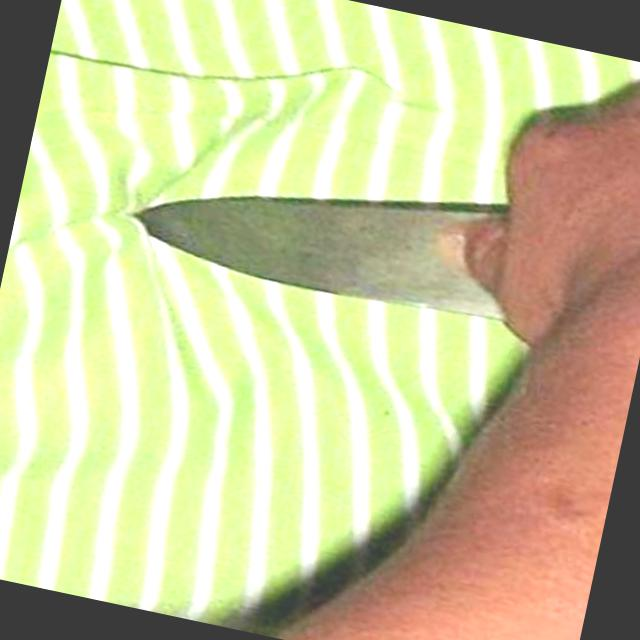knife: (105, 0, 639, 375)
